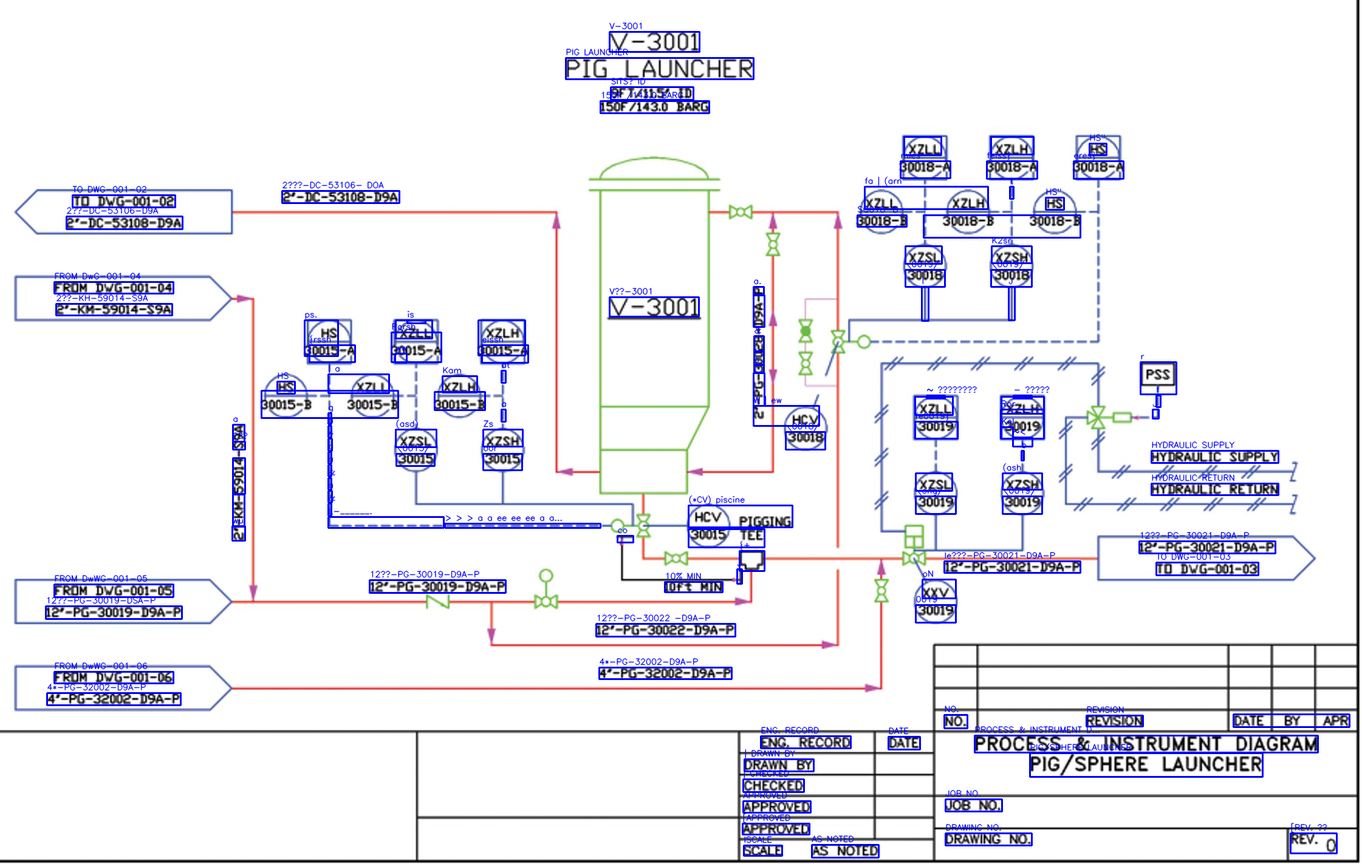Instrumento: (1028, 186, 1083, 237)
Outro: (1070, 132, 1126, 183), (898, 132, 951, 184), (985, 132, 1038, 184), (855, 186, 909, 237), (302, 316, 357, 366), (475, 316, 529, 366), (345, 372, 402, 419), (389, 317, 443, 366), (910, 392, 961, 443), (942, 186, 996, 234), (259, 372, 312, 420), (998, 392, 1047, 443), (434, 372, 485, 421), (478, 426, 527, 475), (900, 242, 948, 291), (987, 242, 1035, 291), (782, 404, 830, 453), (998, 469, 1047, 516), (392, 426, 439, 474), (913, 468, 959, 517), (912, 577, 958, 624), (685, 503, 732, 549), (1139, 361, 1177, 387)
TrocadordeCalor: (585, 152, 722, 501), (903, 522, 926, 549)
Turbina: (1083, 402, 1134, 432), (827, 327, 875, 357), (532, 565, 561, 612), (424, 591, 452, 612), (726, 202, 755, 222), (763, 231, 783, 260), (871, 576, 891, 605), (900, 550, 929, 569), (662, 549, 691, 568), (634, 512, 652, 542), (796, 316, 815, 344), (796, 349, 814, 378), (609, 517, 626, 535)
